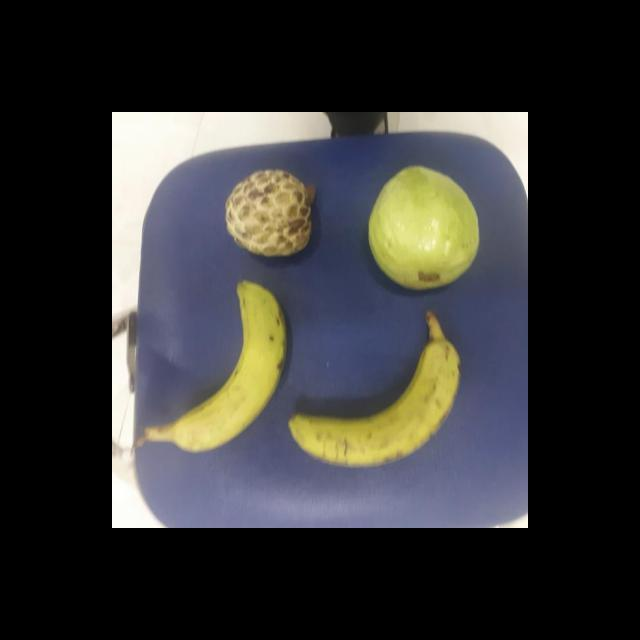Sakya fruit: (225, 170, 318, 258)
banana: (292, 335, 468, 467), (174, 283, 290, 454)
guava: (369, 169, 484, 288), (228, 170, 319, 256)
